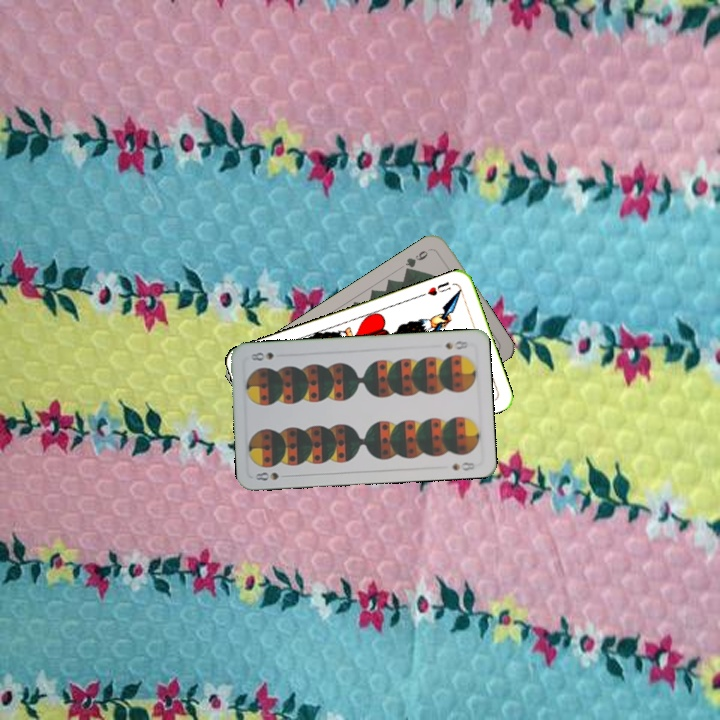G9: (401, 244, 434, 275)
HU: (424, 277, 453, 298)
S8: (251, 468, 292, 483), (441, 336, 472, 352)
